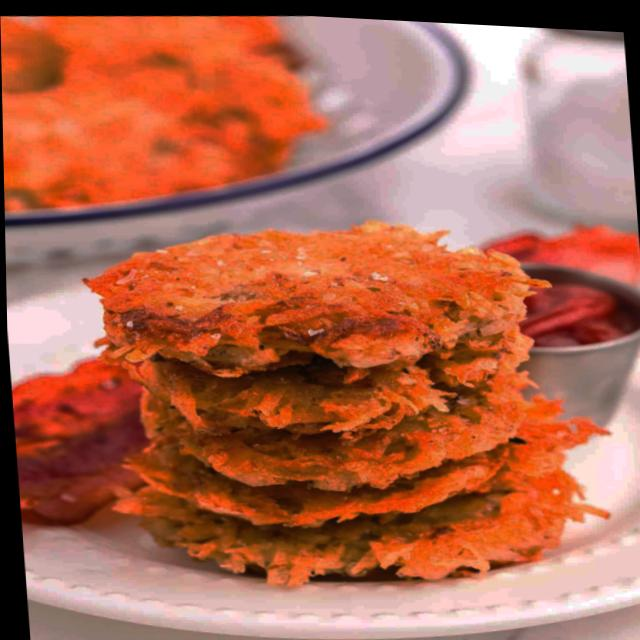Hashbrown: (87, 200, 550, 392), (126, 396, 603, 547), (128, 447, 584, 601), (106, 311, 542, 451), (129, 367, 533, 507)
ketchup: (540, 276, 617, 341)
